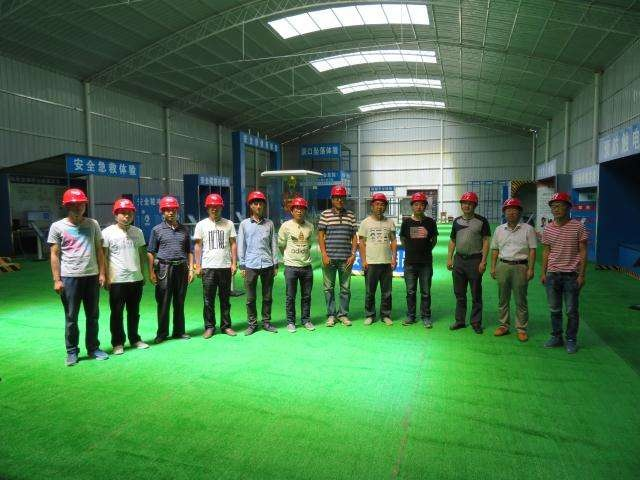red: (60, 186, 88, 220), (111, 196, 136, 227), (547, 190, 571, 221), (499, 196, 524, 223), (158, 195, 181, 224), (202, 191, 224, 219), (245, 189, 267, 217), (287, 195, 309, 221), (458, 189, 478, 217), (329, 183, 348, 210), (369, 192, 388, 217), (409, 190, 427, 215)
